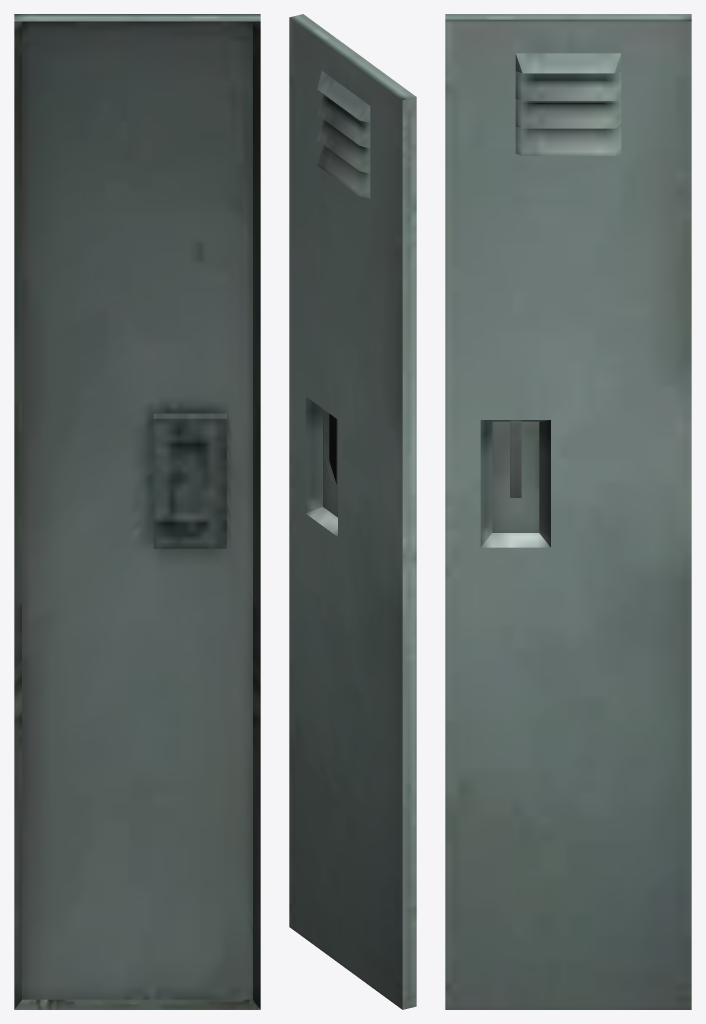
File: lockerdoorsingle.glb
3 renders of one model, left to right at view 1: azimuth 90°, elevation 25°; view 2: azimuth 210°, elevation 25°; view 3: azimuth 270°, elevation 25°, orthographic. The views are drawn at different scales.
Visible parts, largest first — view 1: 0_lockers_sheet; view 2: 0_lockers_sheet; view 3: 0_lockers_sheet.
Boxes of the visible parts, left/top/right/bottom form: 0_lockers_sheet: left=14, top=14, right=260, bottom=1009; 0_lockers_sheet: left=289, top=14, right=416, bottom=1009; 0_lockers_sheet: left=445, top=14, right=691, bottom=1009.
Size of the model in its own units: 0.0397 by 1.57 by 0.3556.
Materials: 1 (1 with a texture image).
